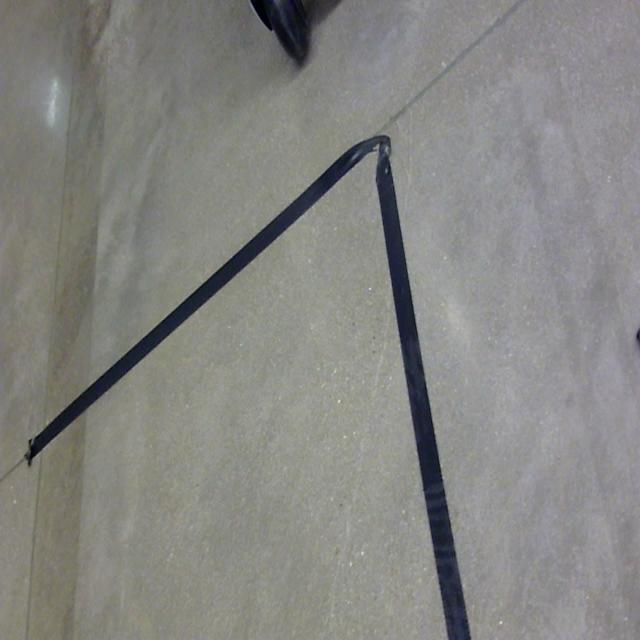tape: (16, 105, 490, 640)
